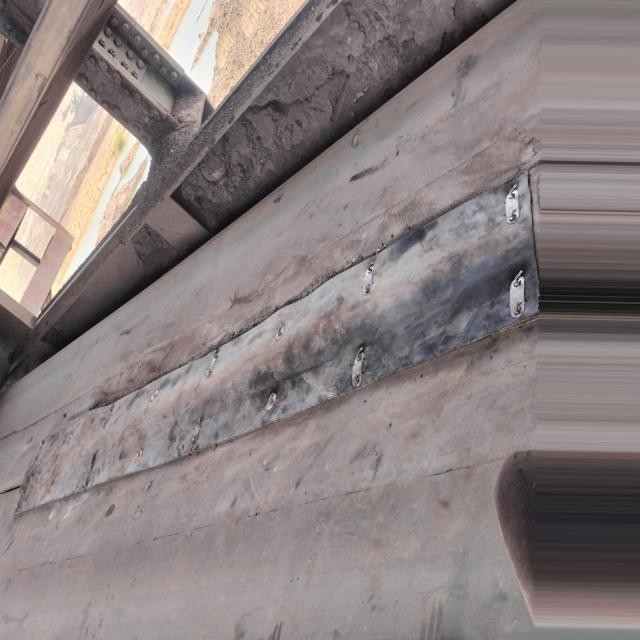patch work: (5, 143, 550, 533)
